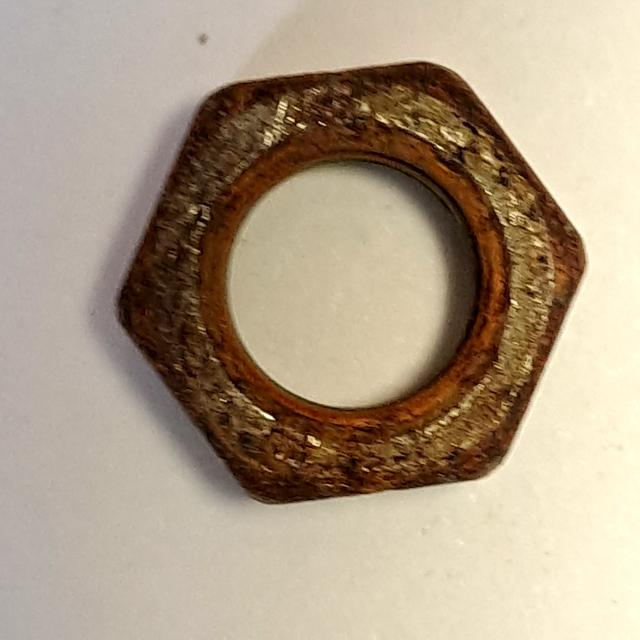Rust: (87, 45, 606, 513)
